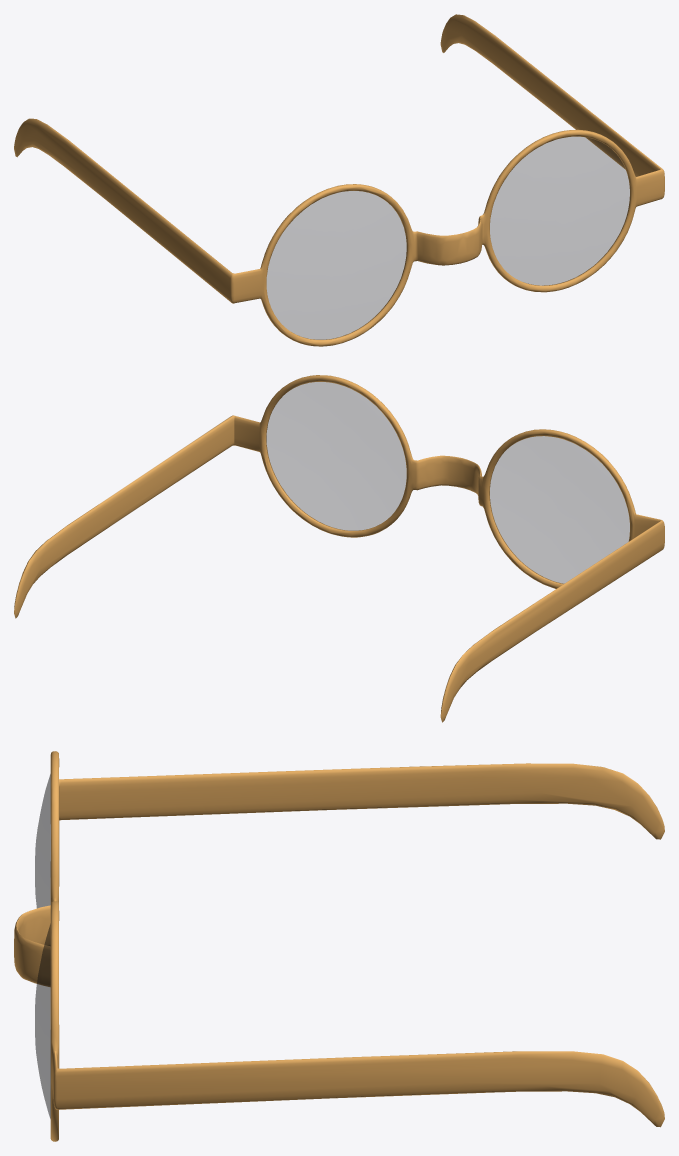
File: eyewear-glasses-yellow-97b13ecd.glb
The picture shows the model from 3 angles, top to bottom: view 1: azimuth 30°, elevation 25°; view 2: azimuth 150°, elevation 25°; view 3: azimuth 270°, elevation 25°; orthographic projection. The views are drawn at different scales.
Parts seen in each view (by area): view 1: Geo_Black_Old_Male_Glasses_Yellow.001; view 2: Geo_Black_Old_Male_Glasses_Yellow.001; view 3: Geo_Black_Old_Male_Glasses_Yellow.001.
Boxes of the visible parts, x1,y1,x2,y2 form: Geo_Black_Old_Male_Glasses_Yellow.001: (14, 14, 664, 346); Geo_Black_Old_Male_Glasses_Yellow.001: (14, 375, 664, 722); Geo_Black_Old_Male_Glasses_Yellow.001: (14, 751, 664, 1141).
Bounding box in the file's own units: 1.35 × 0.4693 × 1.27.
